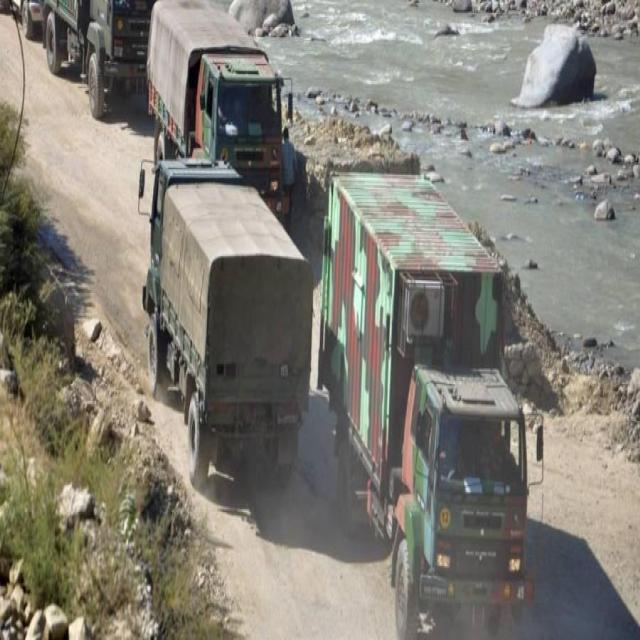truck: (319, 175, 529, 634), (142, 160, 312, 486), (148, 0, 282, 211)
